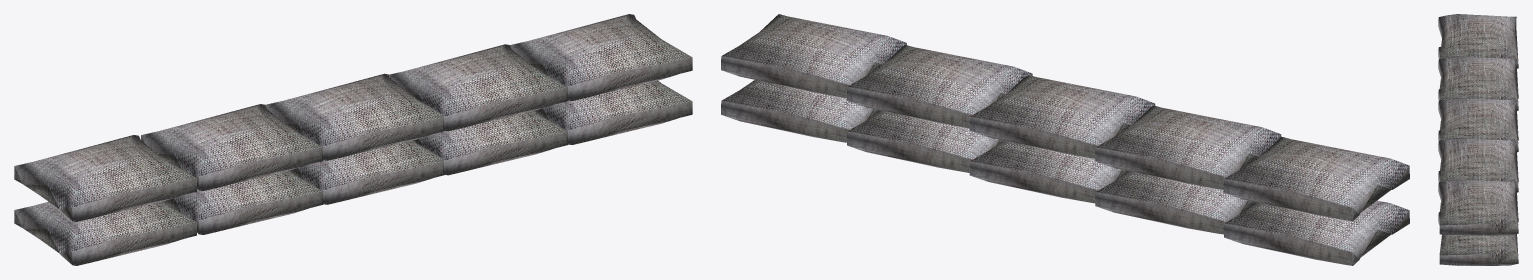
The model's file is SaddleBag00.obj.
3 renders of one model, left to right at view 1: azimuth 30°, elevation 25°; view 2: azimuth 150°, elevation 25°; view 3: azimuth 270°, elevation 25°, orthographic. The views are drawn at different scales.
Visible parts, largest first — view 1: Box025, Box023, Box027, Box019, Box021, Box014, Box011, Box017, Box005, Box008; view 2: Box025, Box023, Box019, Box027, Box021, Box014, Box011, Box005, Box017, Box008; view 3: Box027, Box025, Box023, Box021, Box019, Box017, Box014, Box011, Box008, Box005.
Part boxes in pixels (left/top/right/bottom): Box025: left=14, top=135, right=196, bottom=221; Box023: left=141, top=104, right=323, bottom=190; Box027: left=510, top=14, right=692, bottom=100; Box019: left=265, top=73, right=447, bottom=160; Box021: left=388, top=44, right=567, bottom=131; Box014: left=14, top=201, right=196, bottom=265; Box011: left=163, top=170, right=323, bottom=234; Box017: left=534, top=80, right=692, bottom=144; Box005: left=289, top=140, right=447, bottom=204; Box008: left=414, top=111, right=567, bottom=175; Box025: left=1224, top=136, right=1409, bottom=221; Box023: left=1095, top=105, right=1281, bottom=189; Box019: left=969, top=75, right=1155, bottom=158; Box027: left=721, top=14, right=906, bottom=97; Box021: left=847, top=45, right=1032, bottom=128; Box014: left=1224, top=200, right=1409, bottom=265; Box011: left=1095, top=171, right=1257, bottom=234; Box005: left=969, top=140, right=1128, bottom=203; Box017: left=721, top=80, right=880, bottom=142; Box008: left=847, top=110, right=1002, bottom=172; Box027: left=1438, top=179, right=1518, bottom=235; Box025: left=1438, top=14, right=1518, bottom=68; Box023: left=1438, top=56, right=1518, bottom=110; Box021: left=1438, top=138, right=1518, bottom=192; Box019: left=1438, top=97, right=1518, bottom=152; Box017: left=1438, top=212, right=1518, bottom=265; Box014: left=1438, top=47, right=1518, bottom=98; Box011: left=1438, top=89, right=1518, bottom=140; Box008: left=1438, top=170, right=1518, bottom=222; Box005: left=1438, top=130, right=1518, bottom=181.
Size of the model in its own units: 19.26 by 2.68 by 3.16.
